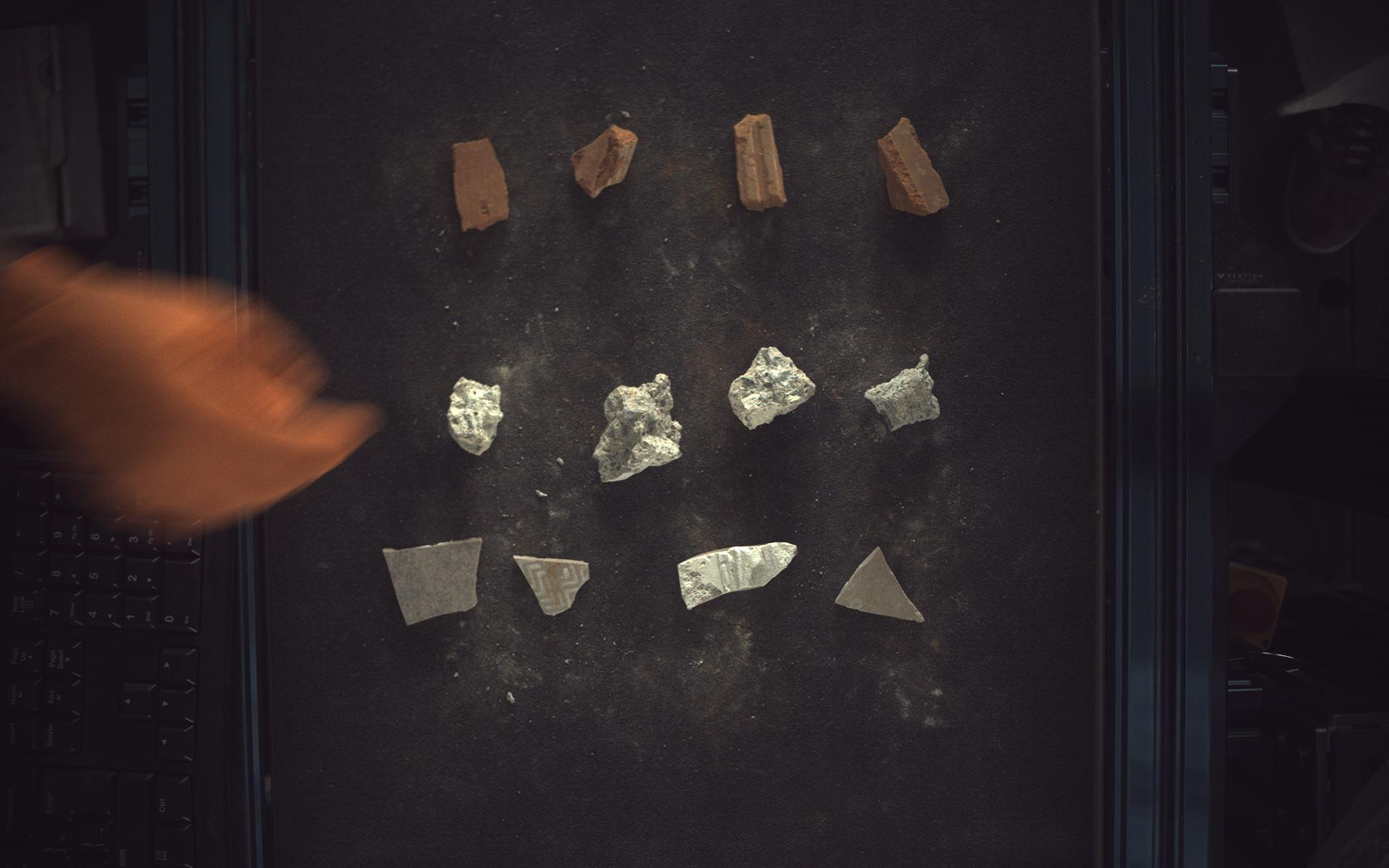brick: (880, 116, 951, 215), (453, 137, 509, 231), (735, 113, 787, 210), (572, 123, 639, 197)
concrete: (595, 373, 682, 483), (730, 346, 817, 430), (867, 353, 942, 431), (447, 377, 504, 455)
tile: (383, 538, 483, 626), (679, 542, 798, 610), (837, 548, 925, 623), (514, 556, 590, 616)
